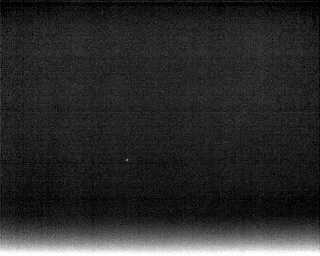AIRPLANE: (123, 155, 132, 166)
